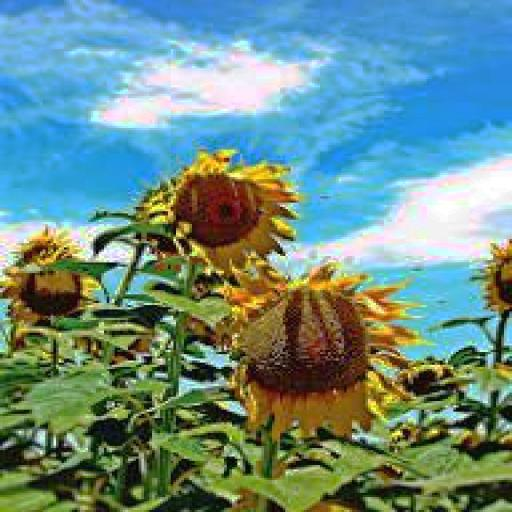sunflower: (216, 262, 416, 436), (160, 147, 293, 275)
